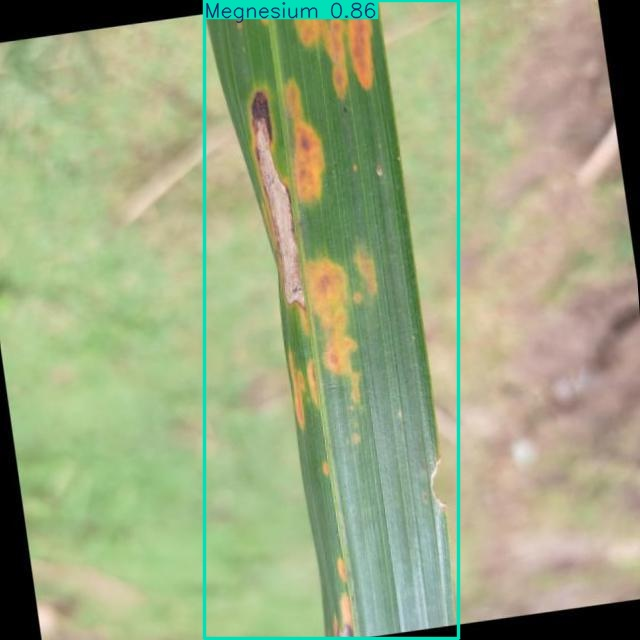Megnesium: (204, 1, 458, 638)
